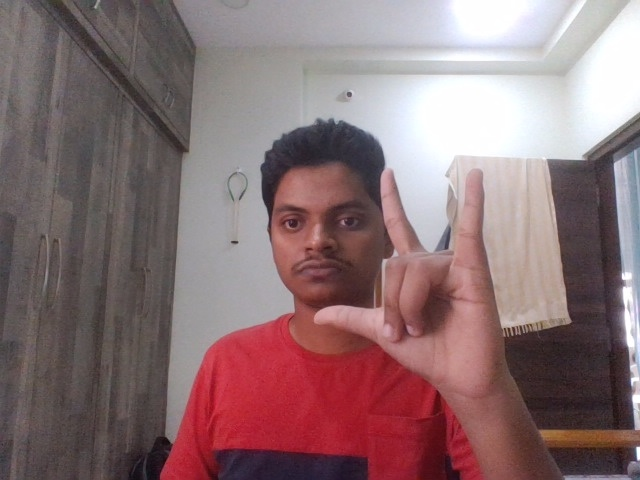I Love You: (298, 156, 563, 429)
